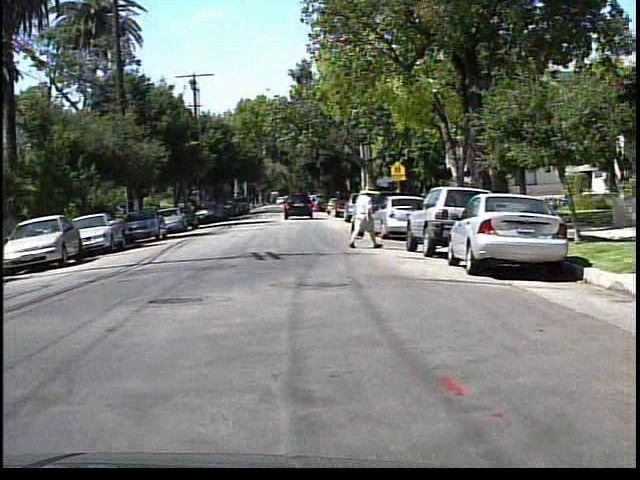person: (343, 184, 384, 252)
